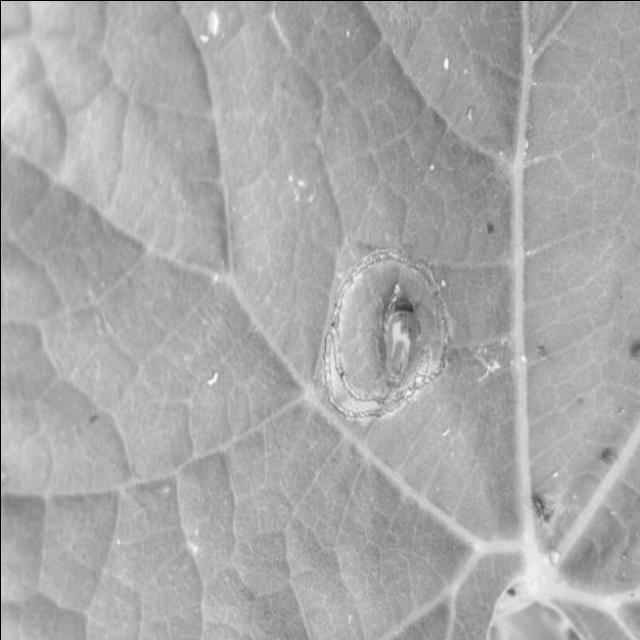Pumpkin Beetle: (320, 239, 454, 424)
